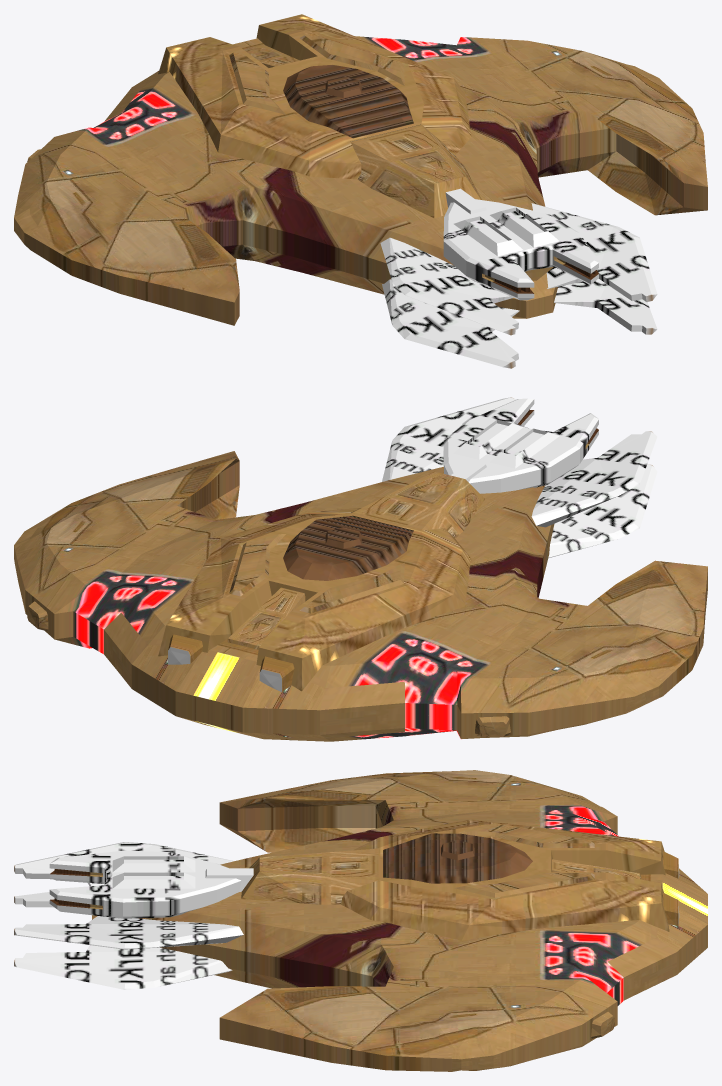
File: Car_Barkus.fbx
3 renders of one model, top to bottom at view 1: azimuth 30°, elevation 25°; view 2: azimuth 150°, elevation 25°; view 3: azimuth 270°, elevation 25°, orthographic. The views are drawn at different scales.
Parts seen in each view (by area): view 1: Car_Barkus; view 2: Car_Barkus; view 3: Car_Barkus.
Part boxes in pixels (<box>): Car_Barkus: <box>14,14,707,368</box>; Car_Barkus: <box>14,397,707,741</box>; Car_Barkus: <box>14,770,707,1071</box>.
Size of the model in its own units: 340 by 84.43 by 346.
Materials: 1 (1 with a texture image).
